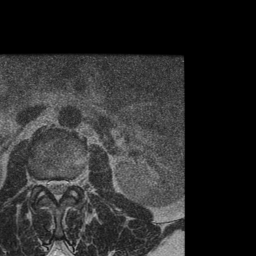CCS_normal: (54, 171, 61, 208)
LFS_normal: (69, 171, 77, 195)
LLS_normal: (62, 172, 69, 197)
RFS_normal: (38, 170, 47, 194)
RLS_normal: (47, 173, 54, 198)
